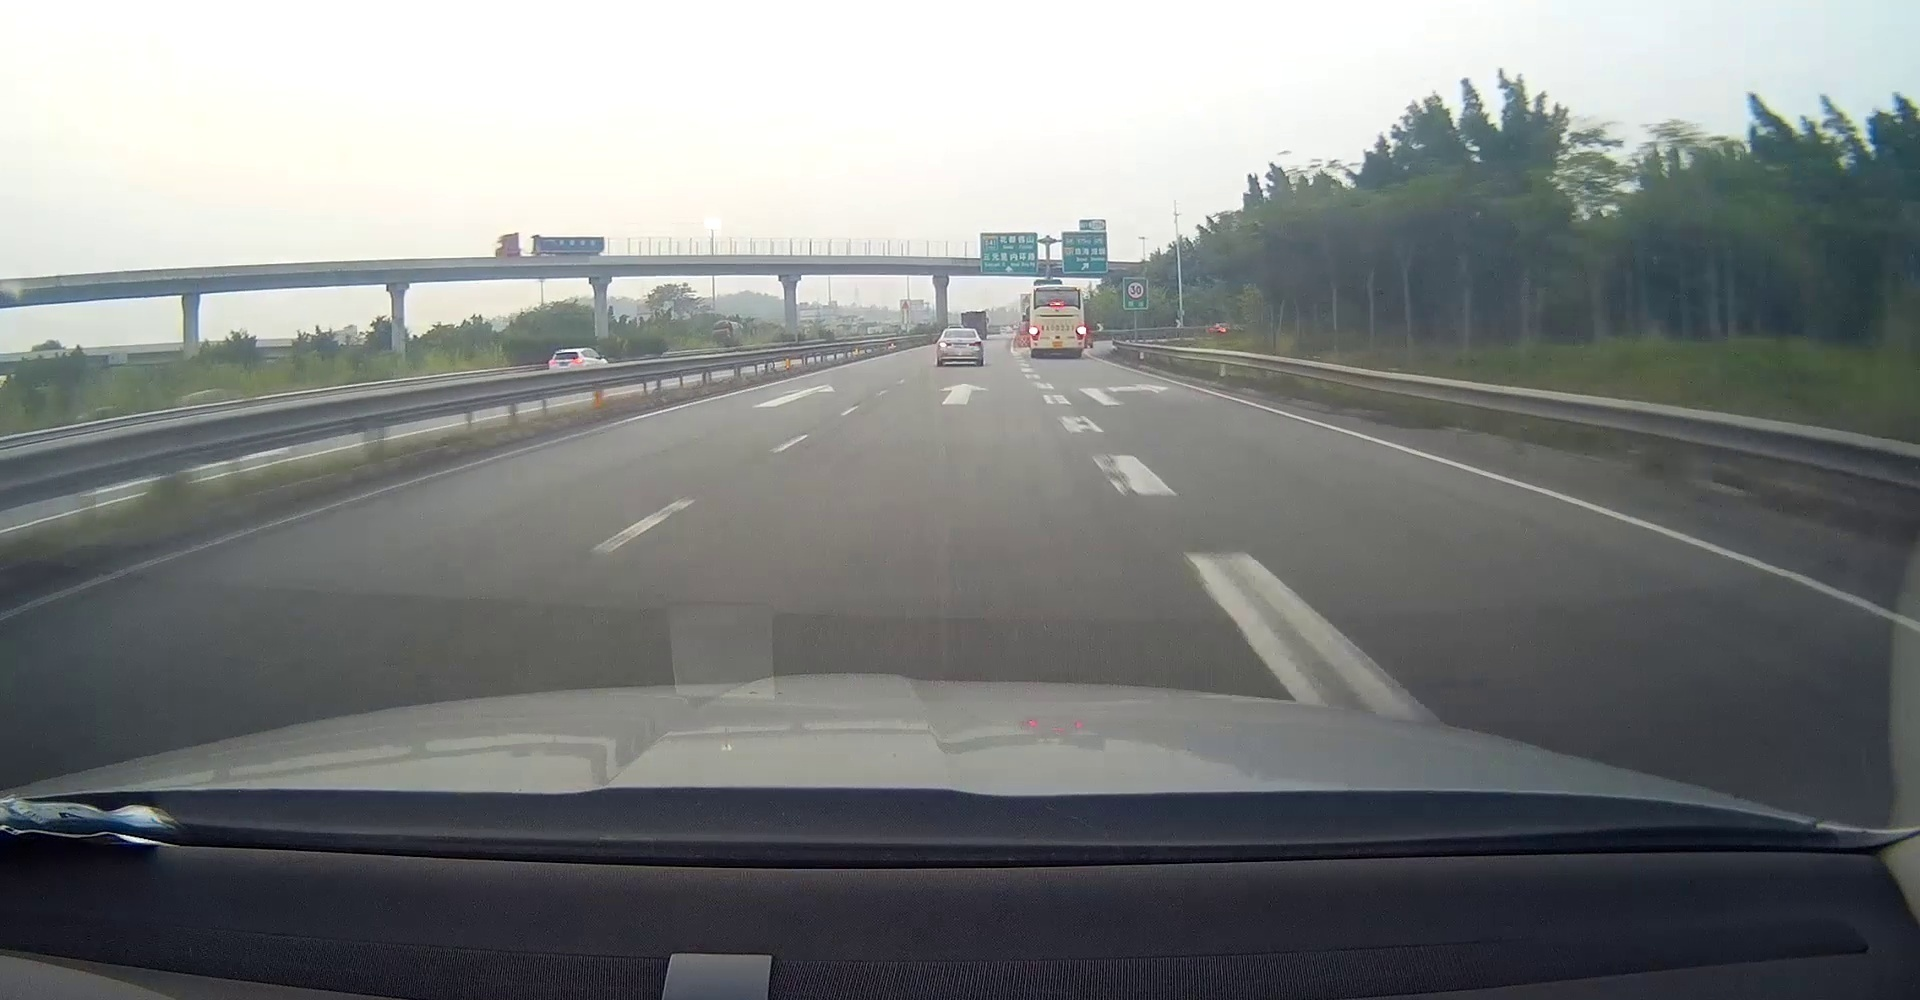L_light: (1030, 326, 1039, 341), (938, 341, 952, 346), (549, 360, 556, 365)
R_light: (1076, 325, 1084, 341), (969, 340, 982, 346), (573, 358, 584, 364)
T_light: (1049, 301, 1065, 306), (955, 329, 965, 332), (563, 352, 569, 354)
day-brake: (1029, 286, 1087, 358)
day-left: (935, 327, 983, 365)
day-no: (547, 349, 587, 376)
